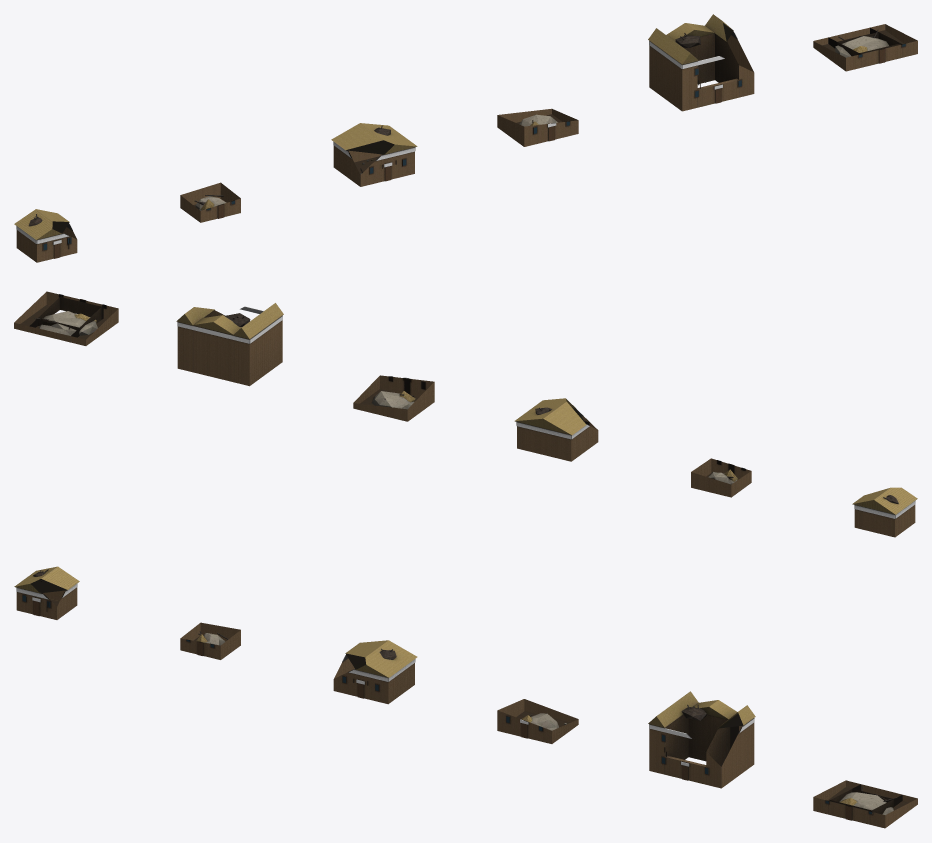
Rendered from bronze-americas-houses-damage-03906f89.glb.
3 views of the same model, one above another, from view 1: azimuth 30°, elevation 25°; view 2: azimuth 150°, elevation 25°; view 3: azimuth 330°, elevation 25° (orthographic).
Parts seen in each view (by area): view 1: LOD0.004, LOD0.002, LOD0.005, LOD0, LOD0.003, LOD0.001; view 2: LOD0.004, LOD0.002, LOD0.005, LOD0.003, LOD0, LOD0.001; view 3: LOD0.004, LOD0.002, LOD0.005, LOD0, LOD0.003, LOD0.001.
Boxes of the visible parts, x1=… form: LOD0.004: x1=648, y1=14, x2=754, y2=111; LOD0.002: x1=331, y1=123, x2=417, y2=186; LOD0.005: x1=813, y1=24, x2=917, y2=71; LOD0: x1=14, y1=209, x2=77, y2=262; LOD0.003: x1=497, y1=108, x2=578, y2=146; LOD0.001: x1=180, y1=182, x2=240, y2=222; LOD0.004: x1=176, y1=303, x2=283, y2=386; LOD0.002: x1=514, y1=398, x2=598, y2=461; LOD0.005: x1=14, y1=291, x2=118, y2=345; LOD0.003: x1=353, y1=375, x2=434, y2=421; LOD0: x1=852, y1=487, x2=917, y2=537; LOD0.001: x1=691, y1=458, x2=751, y2=497; LOD0.004: x1=648, y1=691, x2=755, y2=788; LOD0.002: x1=333, y1=640, x2=417, y2=704; LOD0.005: x1=813, y1=780, x2=917, y2=828; LOD0: x1=14, y1=566, x2=79, y2=619; LOD0.003: x1=497, y1=699, x2=578, y2=743; LOD0.001: x1=180, y1=622, x2=240, y2=659.
Size of what is drawn, in the model's own units: 16.06 by 1 by 1.08.
2 materials, 2 textured.
